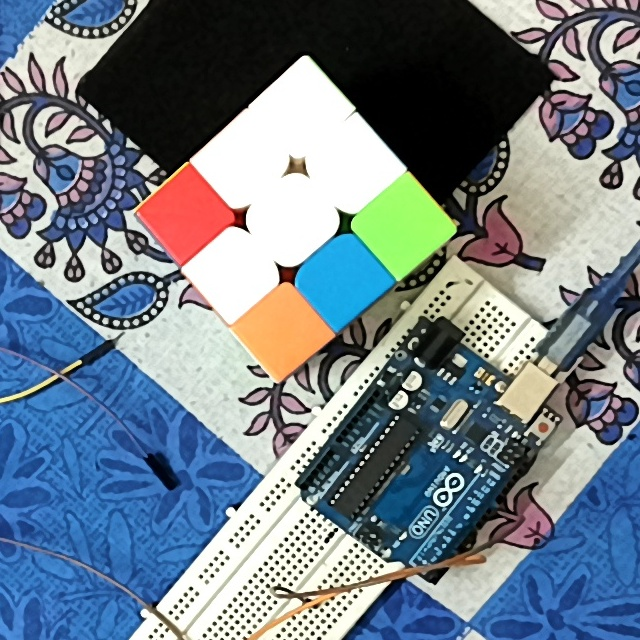tile: (278, 83, 330, 137), (381, 200, 434, 252), (209, 244, 261, 296), (159, 193, 211, 244), (265, 197, 320, 245), (261, 305, 309, 357), (320, 255, 366, 308), (216, 144, 265, 187), (332, 146, 379, 190)
